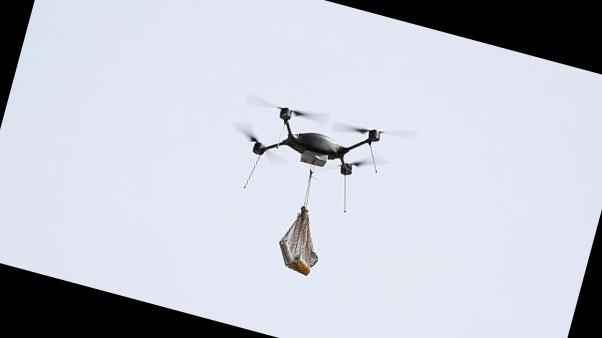drone: (212, 75, 426, 228)
